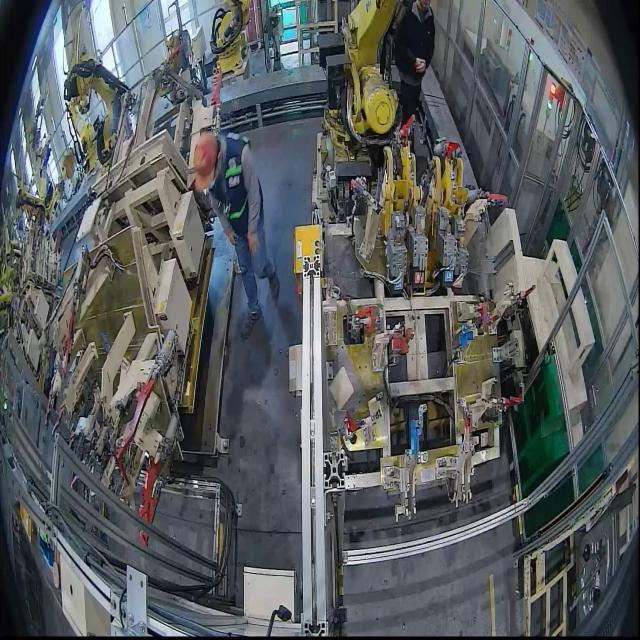Person: (193, 130, 280, 340), (393, 0, 435, 126)
